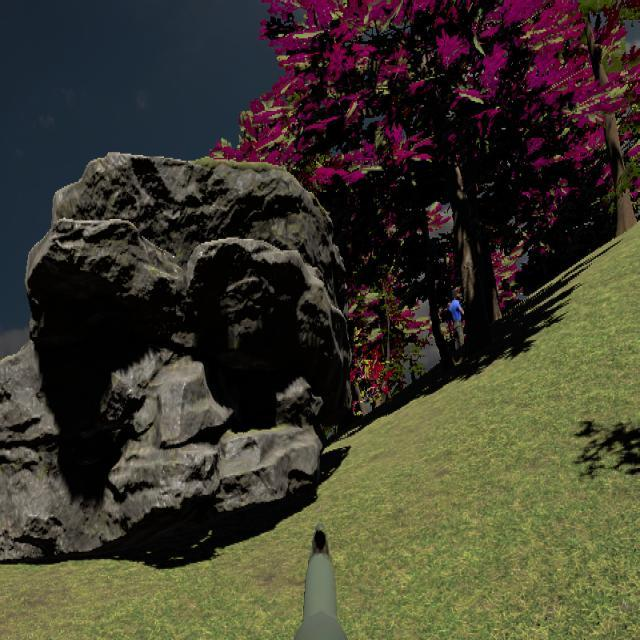Human: (447, 286, 468, 371)
